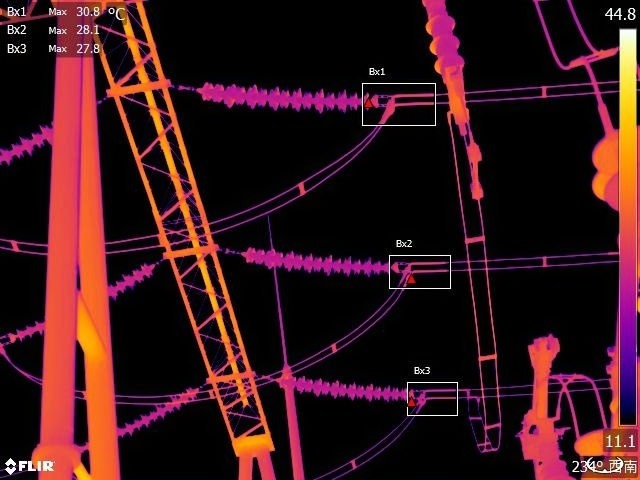clamp: (378, 90, 400, 121), (398, 253, 422, 279), (460, 385, 484, 409), (417, 386, 437, 411)
insulator: (8, 256, 158, 348), (201, 61, 369, 124), (239, 240, 402, 283), (270, 369, 410, 407), (112, 389, 201, 438), (420, 1, 467, 75), (1, 115, 57, 169)
